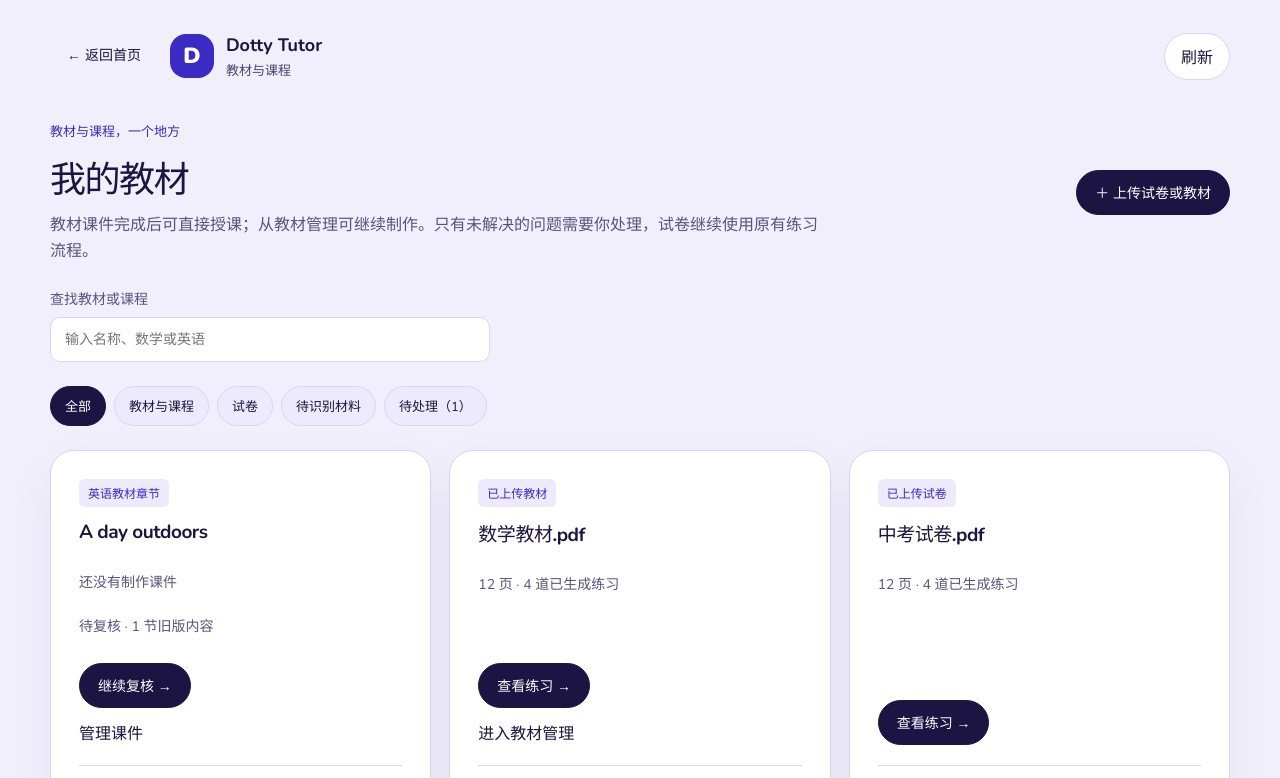
Scenario: user Given a textbook and paper When filtering and deleting the paper Then only the confirmed paper disappears
Expected: the heading "中考试卷.pdf" is shown, [878, 519, 984, 548]
Step 1. Click the button "试卷" → (245, 406), box [217, 386, 273, 426]
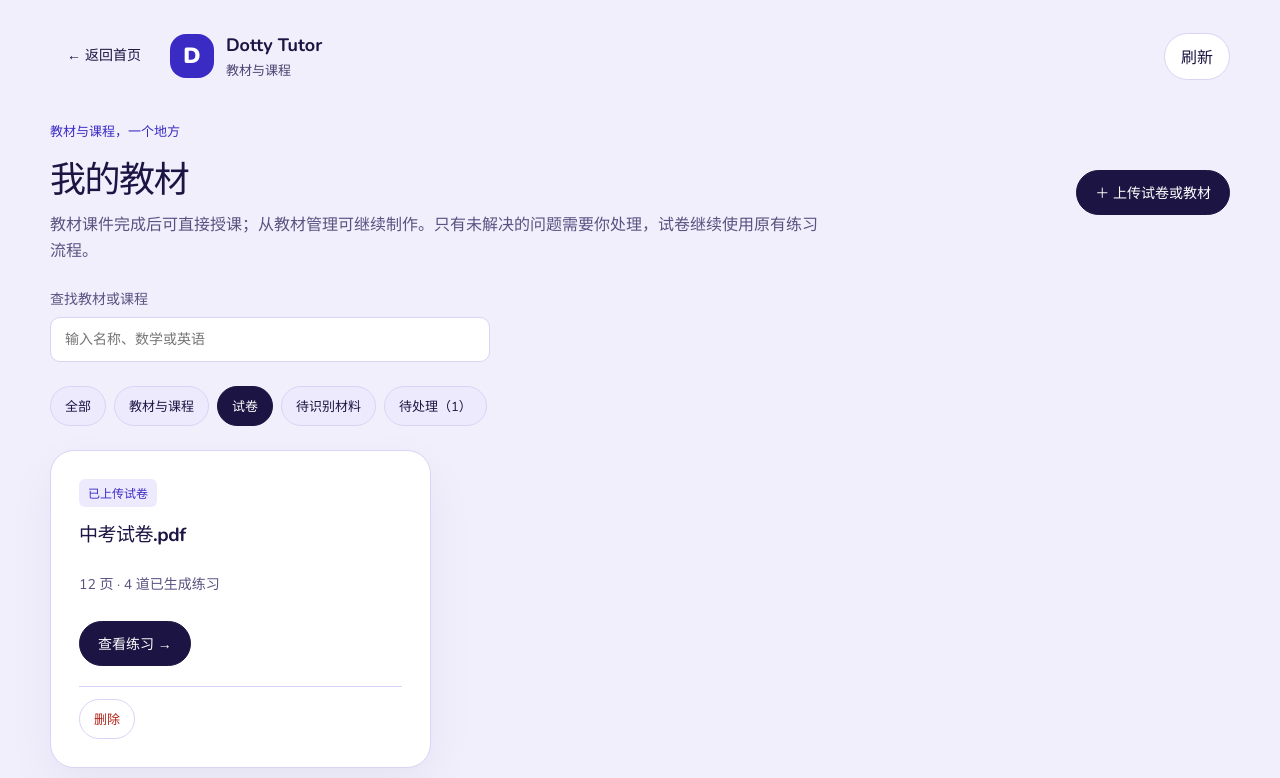
Result: the heading "数学教材.pdf" is gone
Step 2. Click the button "删除" → (107, 719), box [79, 699, 135, 739]
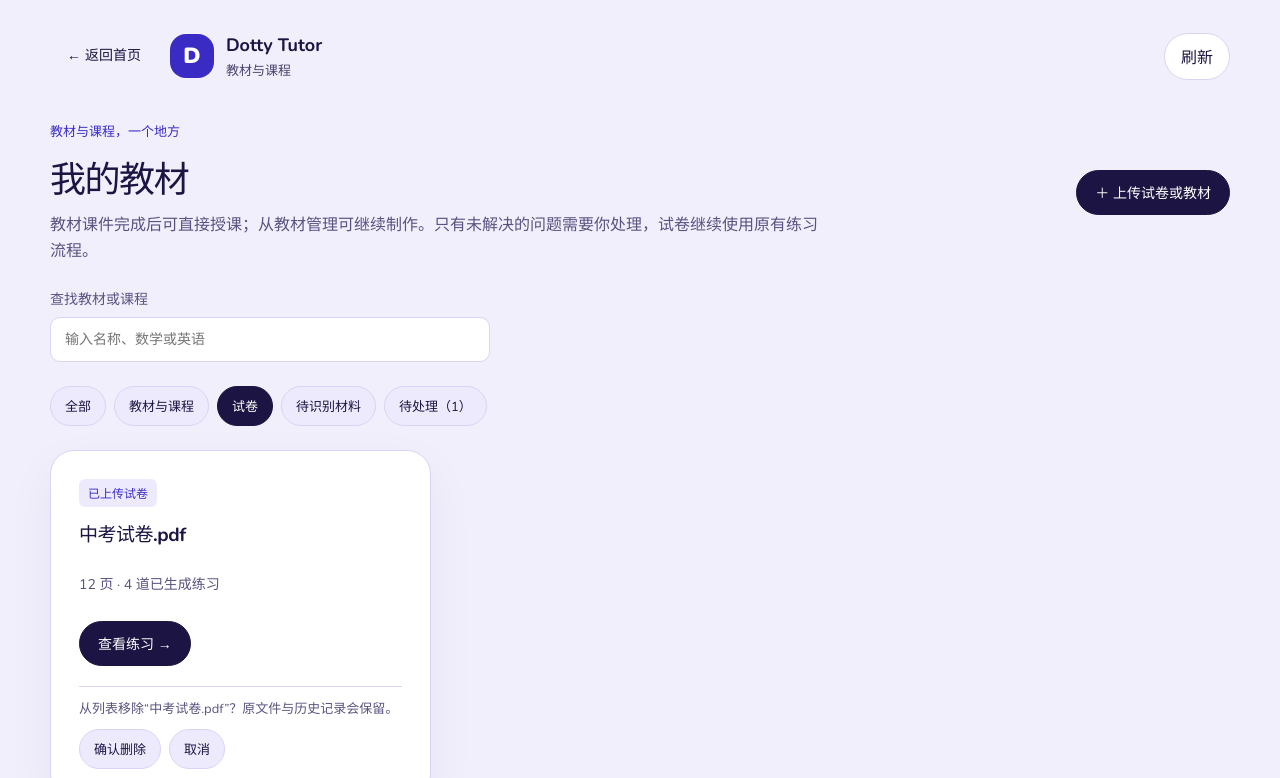
Step 3. Click the button "取消" → (197, 749), box [169, 729, 225, 769]
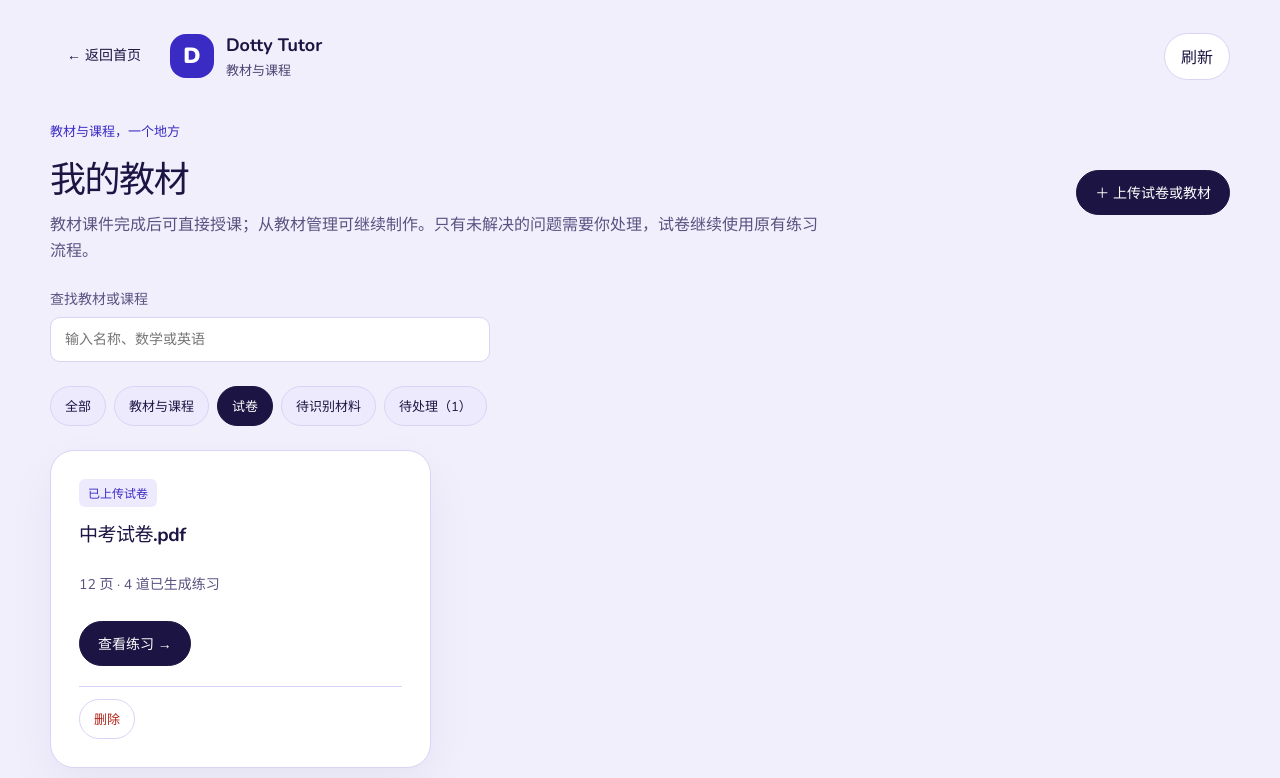
Expected: the heading "中考试卷.pdf" is shown, [79, 519, 186, 548]
Step 4. Click the button "删除" → (107, 719), box [79, 699, 135, 739]
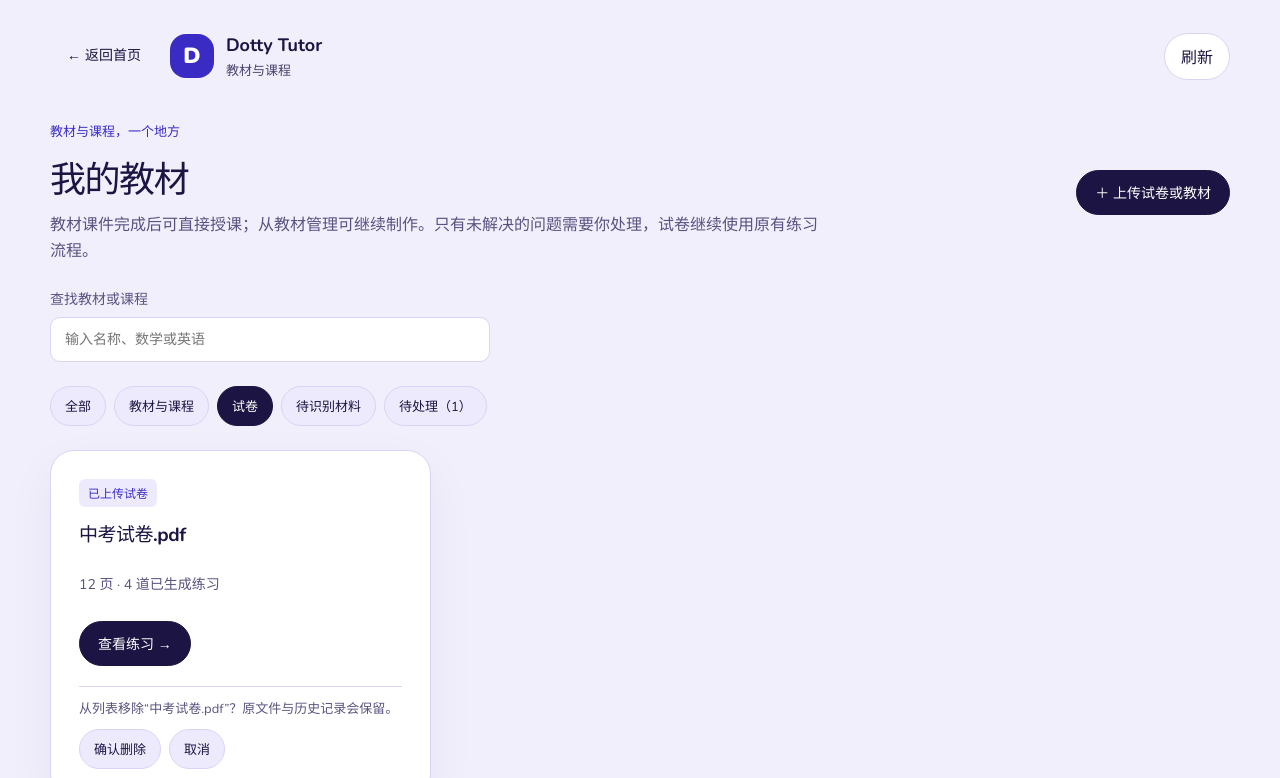
Step 5. Click the button "确认删除" → (120, 749), box [79, 729, 161, 769]
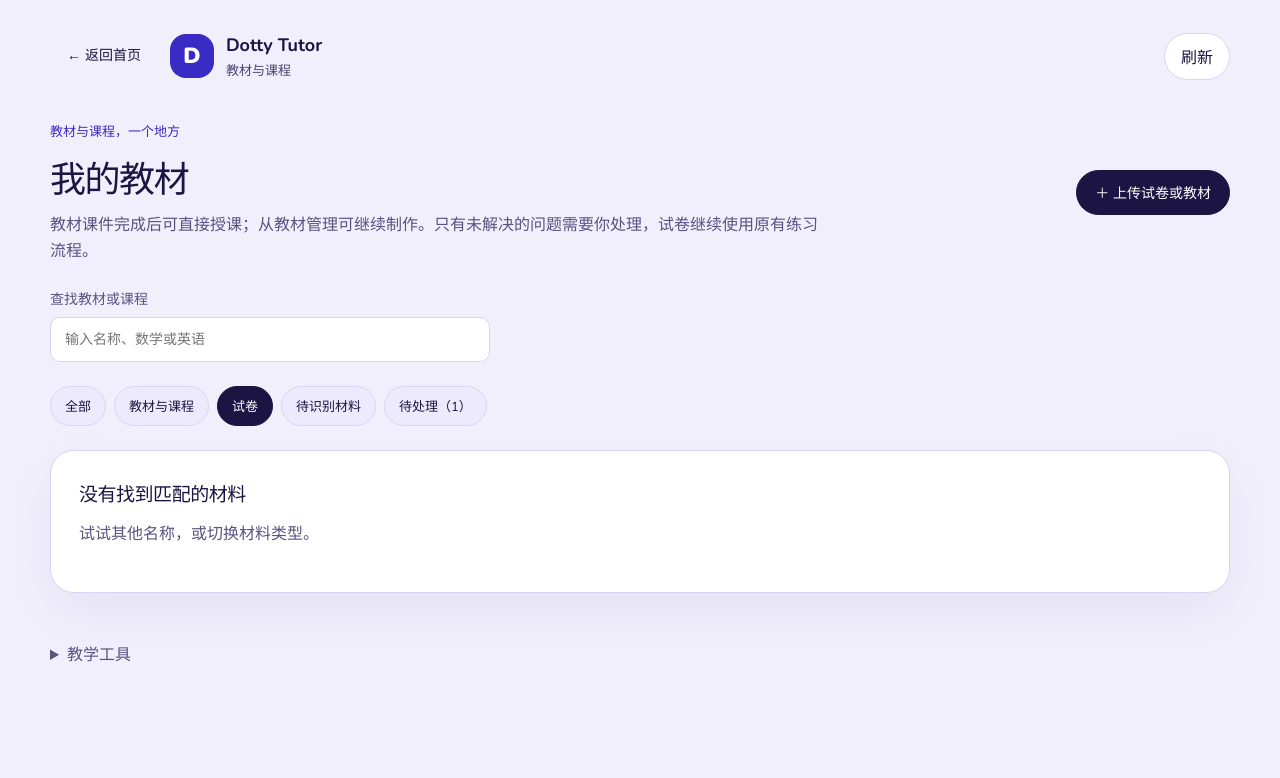
Result: the heading "没有找到匹配的材料" is shown at [79, 482, 246, 508]
Step 6. Click the button "教材与课程" → (162, 406), box [114, 386, 209, 426]
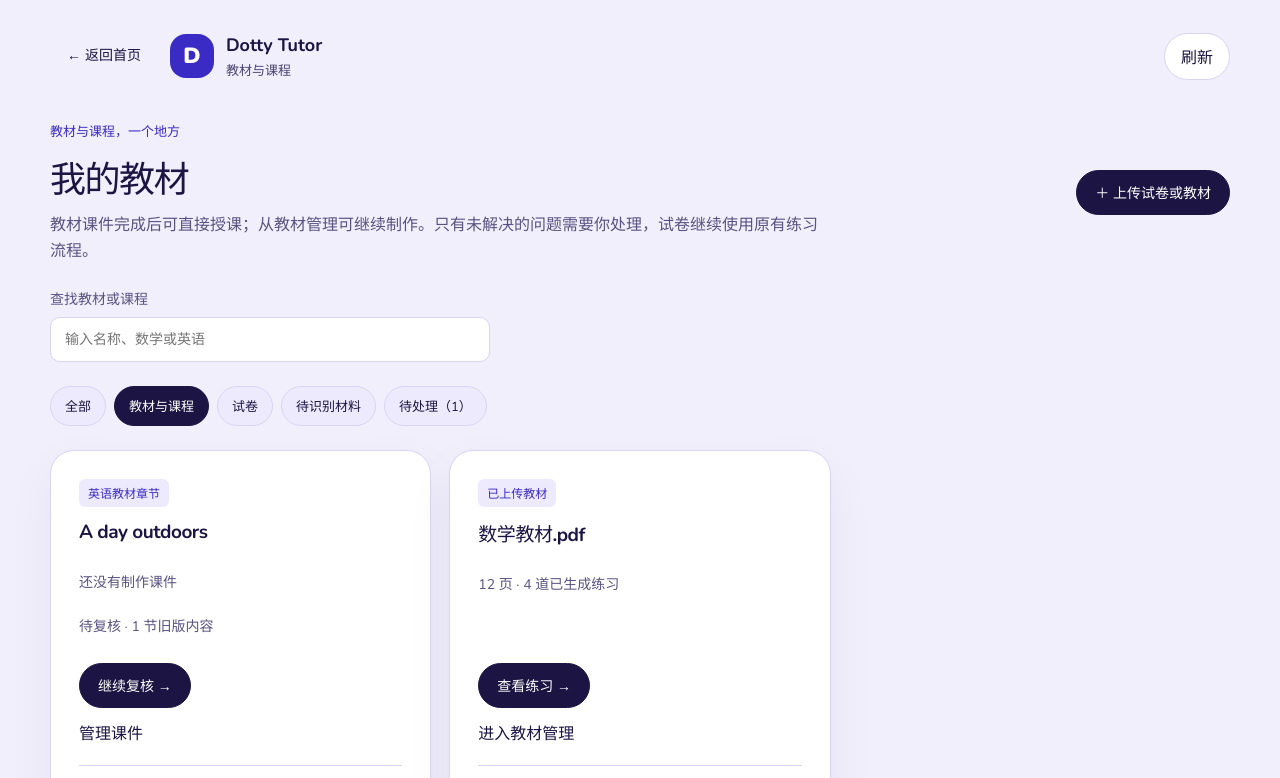
Result: the heading "数学教材.pdf" is shown at [478, 519, 585, 548]
Result: the heading "A day outdoors" is shown at [79, 519, 208, 545]
